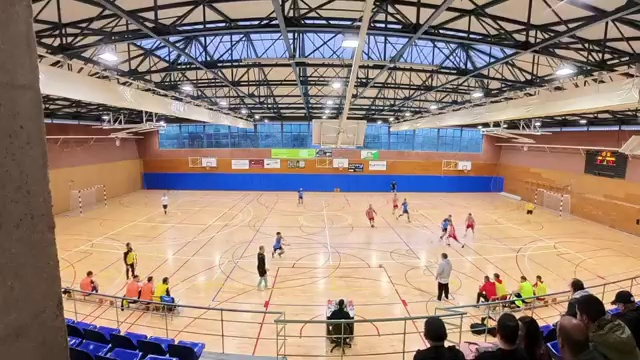players blue shirt: (272, 232, 284, 256), (440, 217, 450, 239), (400, 198, 409, 221), (298, 188, 303, 204)
players red shirt: (441, 215, 459, 245), (463, 213, 475, 246), (365, 204, 376, 227), (393, 195, 398, 215)
